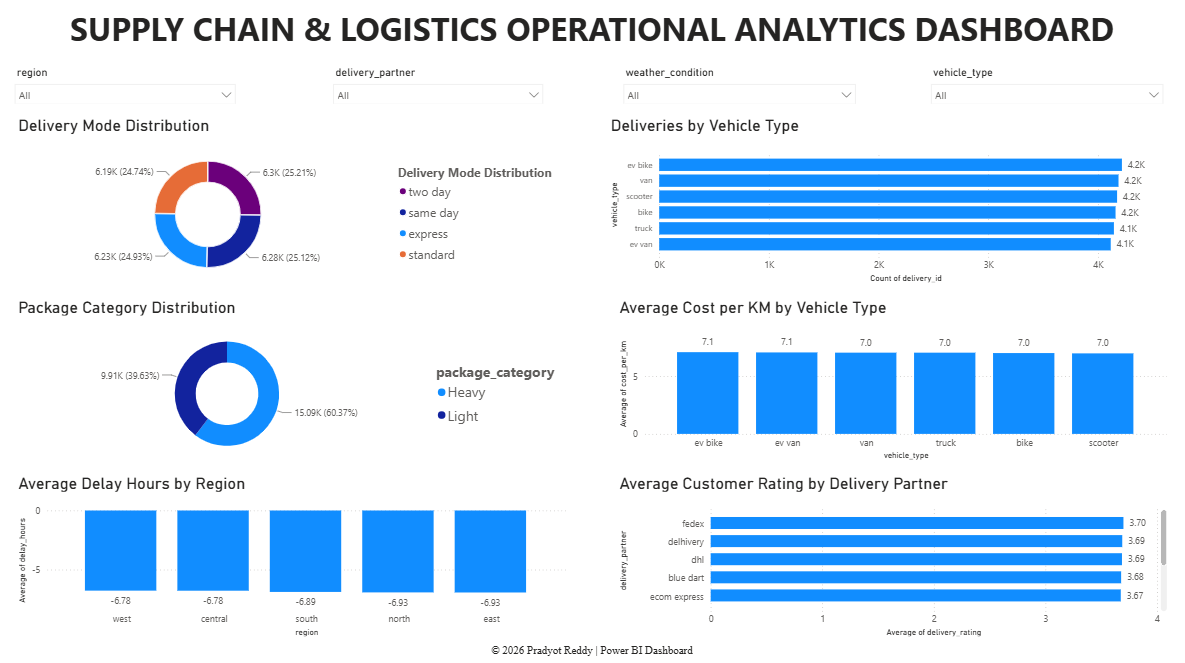

What the dashboard file says about the page in this screenshot:
{"tool":"powerbi","page":{"name":"Operational Dashboard","canvas":[1600,900],"ordinal":1},"visuals":[{"type":"textbox","box":[0,10,1600,70],"z":0},{"type":"slicer","fields":{"Values":["Deliveries.region"]},"box":[20,90,330,55],"z":1000},{"type":"slicer","fields":{"Values":["Deliveries.delivery_partner"]},"box":[430,90,330,55],"z":2000},{"type":"slicer","fields":{"Values":["Deliveries.vehicle_type"]},"box":[1241.7,90,330,55],"z":3000},{"type":"slicer","fields":{"Values":["Deliveries.weather_condition"]},"box":[831.7,90,330,55],"z":4000},{"type":"donutChart","title":"Delivery Mode Distribution","fields":{"Category":["Deliveries.delivery_mode"],"Y":["CountNonNull(Deliveries.delivery_id)"]},"box":[30,161.7,730,226.7],"z":5000},{"type":"clusteredBarChart","title":"Deliveries by Vehicle Type","fields":{"Category":["Deliveries.vehicle_type"],"Y":["CountNonNull(Deliveries.delivery_id)"]},"box":[820,161.7,740,226.7],"z":6000},{"type":"donutChart","title":"Package Category Distribution","fields":{"Category":["Deliveries.package_category"],"Y":["CountNonNull(Deliveries.delivery_id)"]},"box":[30,403.3,740,221.7],"z":7000},{"type":"clusteredColumnChart","title":"Average Cost per KM by Vehicle Type","fields":{"Category":["Deliveries.vehicle_type"],"Y":["Avg(Deliveries.cost_per_km)"]},"box":[831.7,403.3,740,221.7],"z":8000},{"type":"clusteredColumnChart","title":"Average Delay Hours by Region","fields":{"Category":["Deliveries.region"],"Y":["Avg(Deliveries.delay_hours)"]},"box":[30,638.3,740,222],"z":9000},{"type":"clusteredBarChart","title":"Average Customer Rating by Delivery Partner","fields":{"Category":["Deliveries.delivery_partner"],"Y":["Avg(Deliveries.delivery_rating)"]},"box":[832,638,740,222],"z":10000},{"type":"textbox","box":[0,860,1600,40],"z":11000}]}

Visuals, with their boxes in screenshot pixels (x1, y1, x2, y2), scaled from the page's 1600x900 canvas onto the 1185x663 screenshot:
textbox: left=0, top=7, right=1184, bottom=59
slicer - Deliveries.region: left=15, top=66, right=259, bottom=107
slicer - Deliveries.delivery_partner: left=318, top=66, right=563, bottom=107
slicer - Deliveries.vehicle_type: left=920, top=66, right=1164, bottom=107
slicer - Deliveries.weather_condition: left=616, top=66, right=860, bottom=107
"Delivery Mode Distribution" donutChart: left=22, top=119, right=563, bottom=286
"Deliveries by Vehicle Type" clusteredBarChart: left=607, top=119, right=1155, bottom=286
"Package Category Distribution" donutChart: left=22, top=297, right=570, bottom=460
"Average Cost per KM by Vehicle Type" clusteredColumnChart: left=616, top=297, right=1164, bottom=460
"Average Delay Hours by Region" clusteredColumnChart: left=22, top=470, right=570, bottom=634
"Average Customer Rating by Delivery Partner" clusteredBarChart: left=616, top=470, right=1164, bottom=634
textbox: left=0, top=634, right=1184, bottom=662
